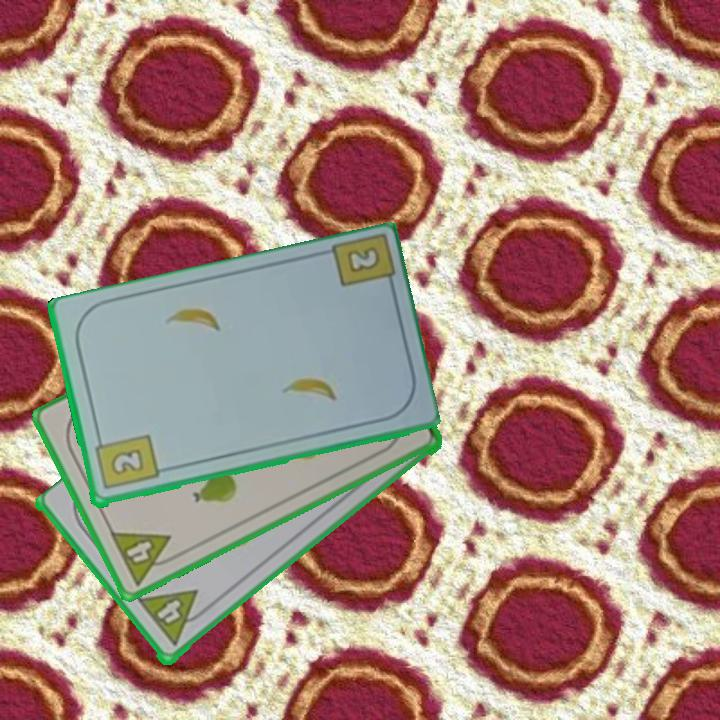2b: (91, 431, 161, 493), (342, 246, 380, 277)
4p: (135, 586, 212, 650), (106, 528, 183, 589)
